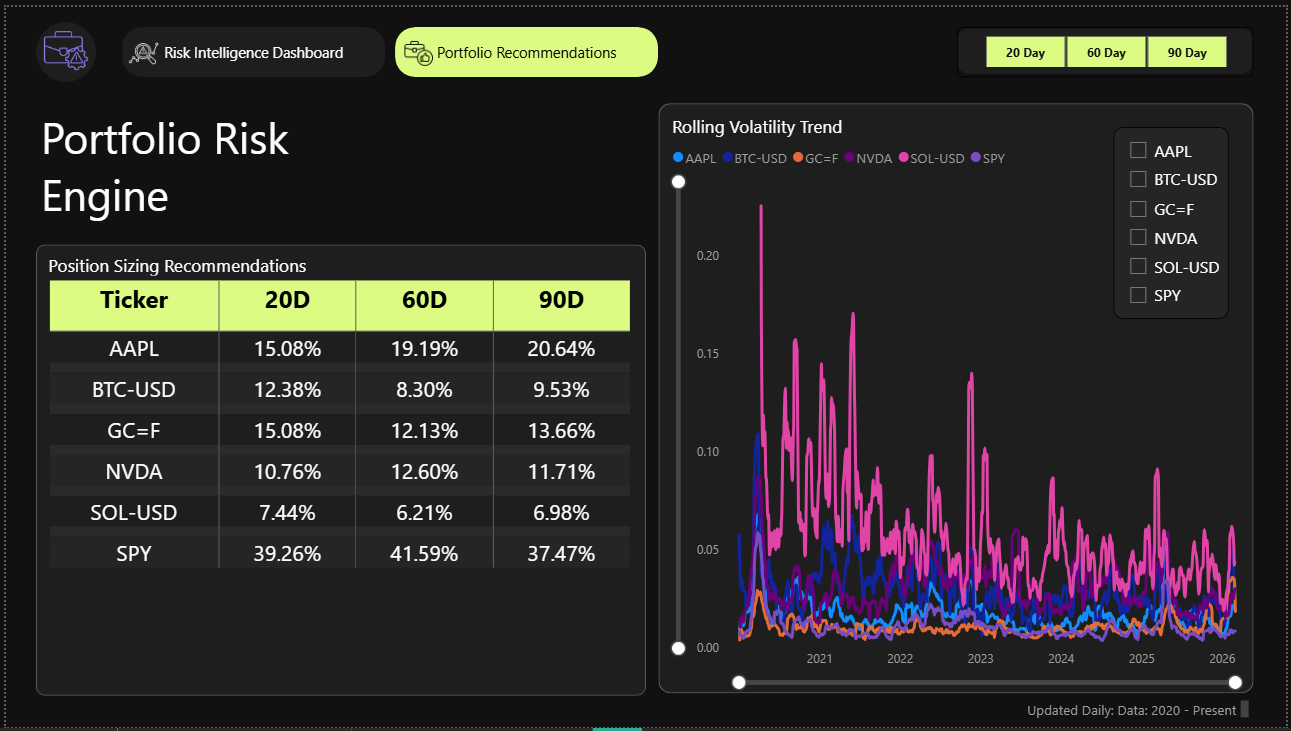

The dashboard page shown, as its layout file describes it:
{"tool":"powerbi","page":{"name":"Portfolio Recommendations","canvas":[1280,720],"ordinal":1},"visuals":[{"type":"shape","box":[951.4,21.4,295.7,45.7],"z":0},{"type":"textbox","box":[30,96.2,371.2,130],"z":1000},{"type":"shape","box":[652.5,96.2,595,590],"z":2000},{"type":"textbox","box":[1015.7,688.6,231.4,31.4],"z":3000},{"type":"shape","box":[30,237.5,610,451.2],"z":4000},{"type":"shape","box":[30,15.6,60,60],"z":5000},{"type":"image","box":[38,21,45,45],"z":6000},{"type":"slicer","fields":{"Values":["Window Selection.Window"]},"box":[951.2,20.6,296.2,50],"z":7000},{"type":"pageNavigator","box":[116,20,536.2,50],"z":8000},{"type":"image","box":[397.5,31,30,30],"z":9000},{"type":"image","box":[122,31,30,30],"z":10000},{"type":"tableEx","title":"Position Sizing Recommendations","fields":{"Values":["position_recommendations.ticker","Sum(position_recommendations.position_size_20d)","Sum(position_recommendations.position_size_60d)","Sum(position_recommendations.position_size_90d)"]},"box":[37.5,246.2,602.5,433.8],"z":11000},{"type":"lineChart","title":"Rolling Volatility Trend","fields":{"Category":["volatility_trend.date"],"Series":["volatility_trend.ticker"],"Y":["Sum(volatility_trend.volatility_20d)"]},"box":[661.2,107.5,586.2,578.8],"z":11001},{"type":"slicer","fields":{"Values":["volatility_trend.ticker"]},"box":[975,171.2,251.2,150],"z":11002}]}

Visuals, with their boxes in screenshot pixels (x1, y1, x2, y2), scaled from the page's 1280x720 canvas onto the 1291x731 screenshot:
shape: 960,22,1258,68
textbox: 30,98,405,230
shape: 658,98,1258,697
textbox: 1024,699,1258,730
shape: 30,241,646,699
shape: 30,16,91,77
image: 38,21,84,67
slicer - Window Selection.Window: 959,21,1258,72
pageNavigator: 117,20,658,71
image: 401,31,431,62
image: 123,31,153,62
"Position Sizing Recommendations" tableEx: 38,250,646,690
"Rolling Volatility Trend" lineChart: 667,109,1258,697
slicer - volatility_trend.ticker: 983,174,1237,326
